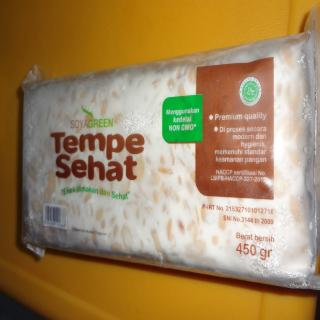Tempe: (21, 7, 320, 291)
